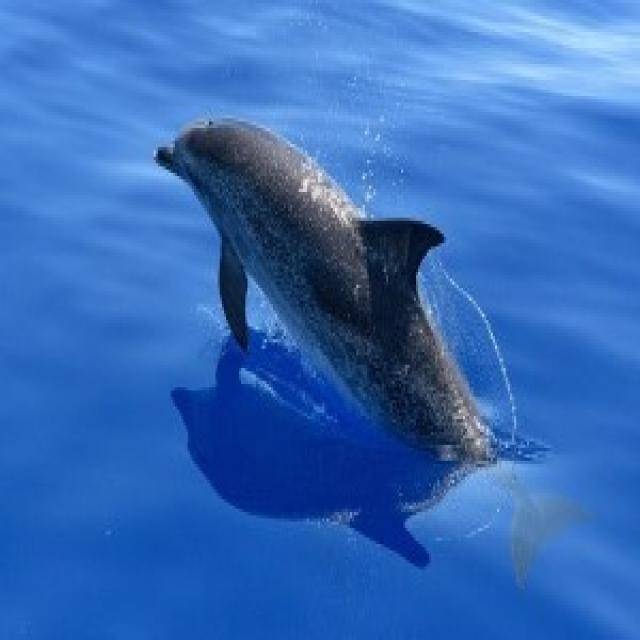Dolphin: (145, 103, 594, 581)
